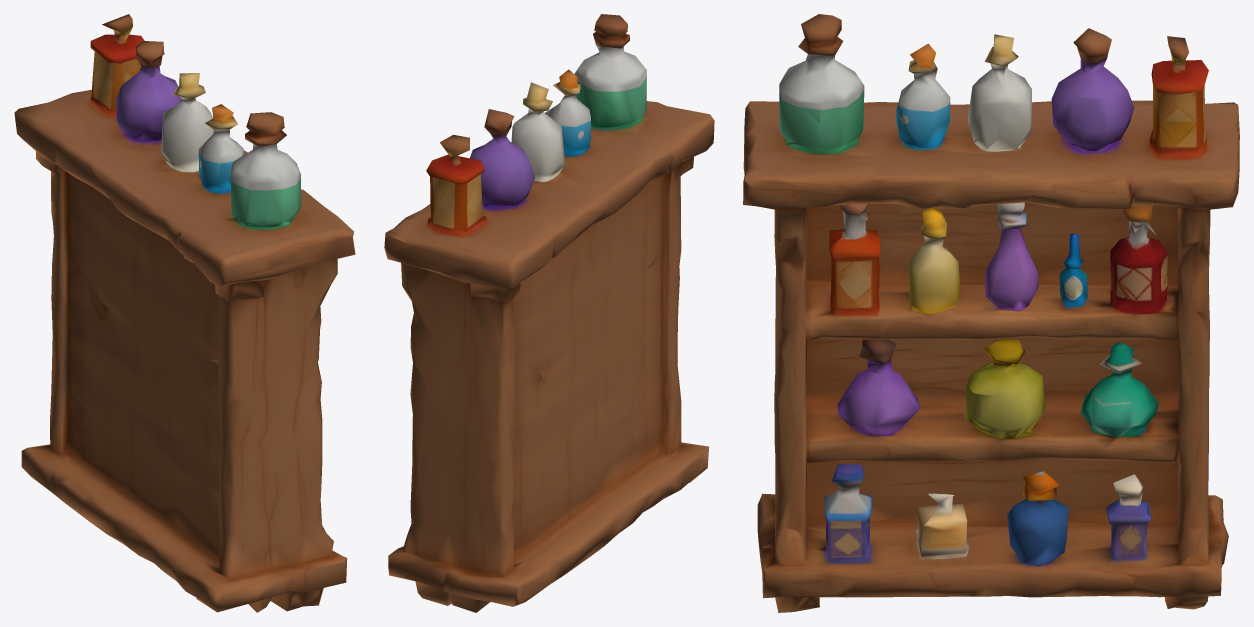
File: shelf_potions.glb
The picture shows the model from 3 angles, left to right: view 1: azimuth 30°, elevation 25°; view 2: azimuth 150°, elevation 25°; view 3: azimuth 270°, elevation 25°; orthographic projection. The views are drawn at different scales.
Visible parts, largest first — view 1: tripo_node_ade626fb-c9b0-497a-b5e0-da249f3be752; view 2: tripo_node_ade626fb-c9b0-497a-b5e0-da249f3be752; view 3: tripo_node_ade626fb-c9b0-497a-b5e0-da249f3be752.
Part boxes in pixels (<box>): tripo_node_ade626fb-c9b0-497a-b5e0-da249f3be752: <box>14,14,355,612</box>; tripo_node_ade626fb-c9b0-497a-b5e0-da249f3be752: <box>384,14,714,612</box>; tripo_node_ade626fb-c9b0-497a-b5e0-da249f3be752: <box>743,14,1239,612</box>.
Bounding box in the file's own units: 0.2978 × 1 × 0.7865.
Materials: 1 (1 with a texture image).
